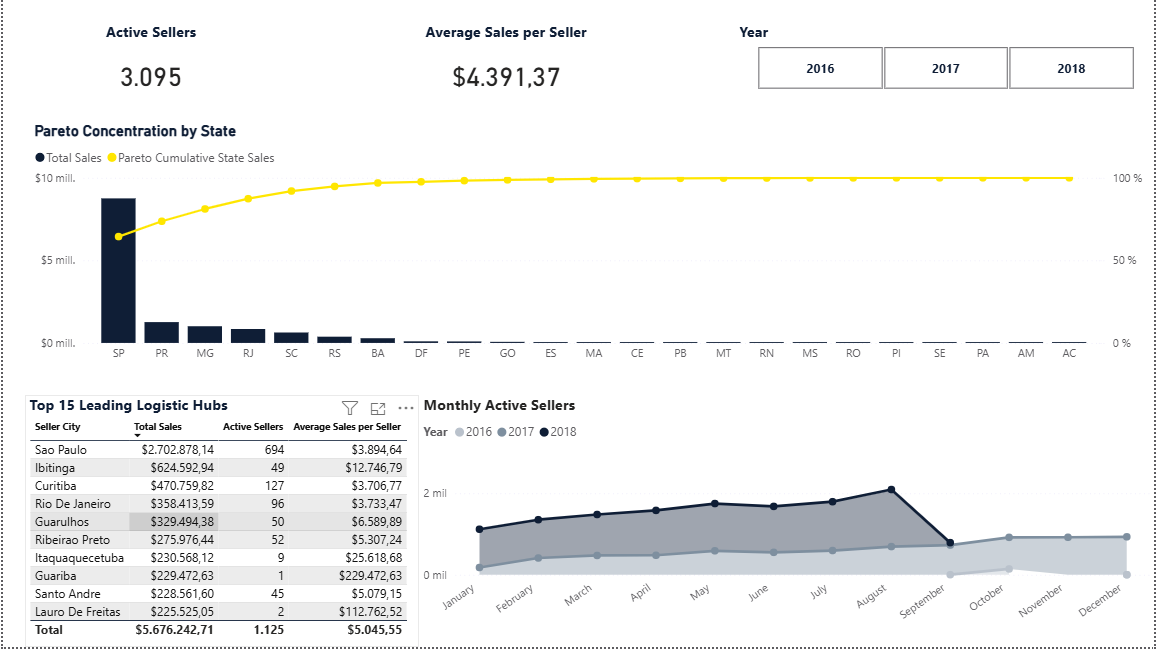

Layout of this report page (visuals, bound fields, positions):
{"tool":"tableau","page":{"name":"Sellers & Performance Analytics","canvas":[1000,800],"ordinal":2},"visuals":[{"type":"worksheet","title":"SPA - Average Sales per Seller","mark":"Automatic","box":[338,8,333,137]},{"type":"filter","title":"SPA - Average Sales per Seller","param":"[federated.1a14ehx1jjl8hb1fiuvrp1sfld17].[none:year:ok]","box":[738,9,168,143]},{"type":"worksheet","title":"SPA - Active Sellers","mark":"Text","box":[22,13,333,155]},{"type":"worksheet","title":"SPA - Pareto Concentration by State","mark":"Automatic","rows":["Calculation_0759790200111104","Calculation_0759790200111104"],"cols":["seller_state"],"box":[33,175,960,321]},{"type":"worksheet","title":"SPA - Monthly Active Sellers","mark":"Area","rows":["seller_id (dim_sellers)","seller_id (dim_sellers)"],"cols":["month_name"],"box":[538,460,410,262]},{"type":"legend","title":"SPA - Monthly Active Sellers","param":"[federated.1a14ehx1jjl8hb1fiuvrp1sfld17].[none:year:ok]","box":[541,714,413,34]}]}

Visuals, with their boxes on the page's 1000x800 design canvas (x1, y1, x2, y2). These are canvas units, not pixel positions in the 1156x649 screenshot, which may show the page scaled, cropped or inside an application window:
"SPA - Average Sales per Seller" worksheet: x1=338 y1=8 x2=671 y2=145
"SPA - Average Sales per Seller" filter: x1=738 y1=9 x2=906 y2=152
"SPA - Active Sellers" worksheet (Text marks): x1=22 y1=13 x2=355 y2=168
"SPA - Pareto Concentration by State" worksheet: x1=33 y1=175 x2=993 y2=496
"SPA - Monthly Active Sellers" worksheet (Area marks): x1=538 y1=460 x2=948 y2=722
"SPA - Monthly Active Sellers" legend: x1=541 y1=714 x2=954 y2=748
